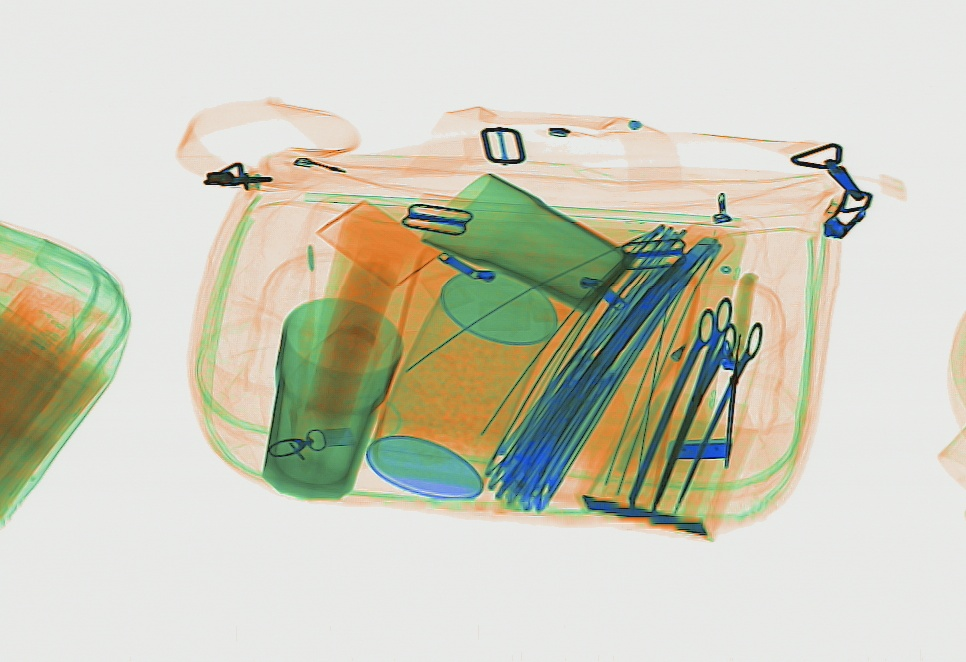scissors: (650, 293, 741, 508)
